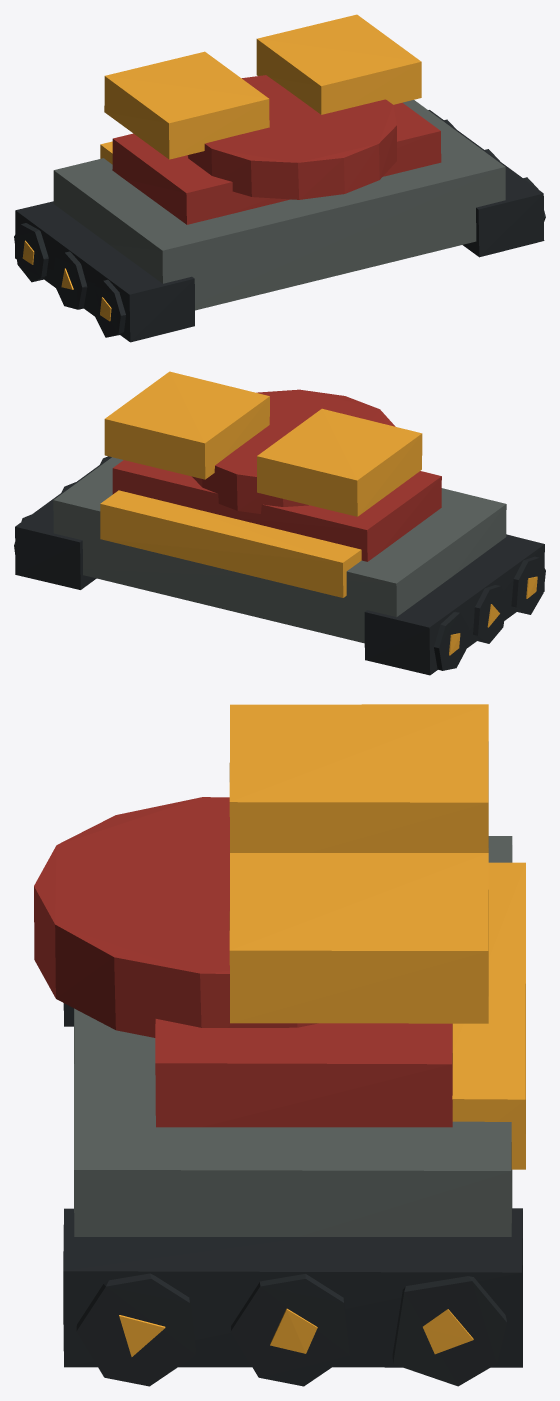
The model's file is SM_Soviet_SU_ZarevoMLRS_LOD3.fbx.
3 renders of one model, top to bottom at view 1: azimuth 30°, elevation 25°; view 2: azimuth 150°, elevation 25°; view 3: azimuth 270°, elevation 25°, orthographic. The views are drawn at different scales.
Parts seen in each view (by area): view 1: LOD03_SM_Soviet_SU_ZarevoMLRS; view 2: LOD03_SM_Soviet_SU_ZarevoMLRS; view 3: LOD03_SM_Soviet_SU_ZarevoMLRS.
Part boxes in pixels (x1,y1,x2,y2): LOD03_SM_Soviet_SU_ZarevoMLRS: (14, 14, 545, 342); LOD03_SM_Soviet_SU_ZarevoMLRS: (14, 371, 545, 675); LOD03_SM_Soviet_SU_ZarevoMLRS: (34, 704, 525, 1386).
Size of the model in its own units: 572 by 286 by 227.
